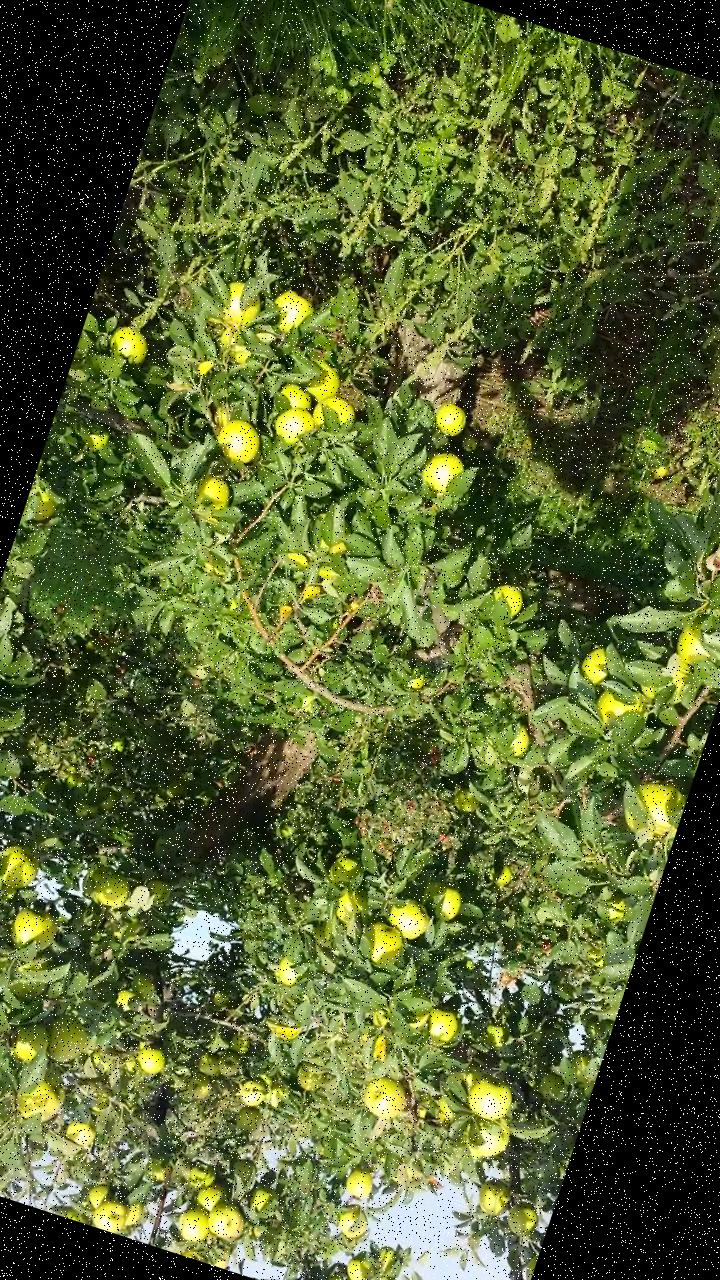Apple: (623, 776, 687, 839), (38, 1010, 92, 1066), (6, 900, 61, 954), (12, 1074, 66, 1127), (359, 1070, 411, 1122), (672, 612, 718, 669), (590, 687, 643, 736), (264, 288, 315, 338), (354, 919, 404, 968), (383, 894, 432, 944), (212, 416, 262, 465), (216, 281, 264, 331), (419, 448, 466, 497), (270, 403, 318, 450), (464, 1076, 513, 1122), (7, 1017, 52, 1066), (636, 666, 688, 708), (0, 842, 43, 891), (419, 879, 465, 924), (300, 356, 344, 403), (210, 324, 257, 368), (105, 325, 152, 367), (202, 1200, 248, 1242), (421, 1007, 467, 1049), (309, 393, 356, 434), (170, 1202, 212, 1246), (92, 868, 134, 912), (469, 1117, 511, 1160), (576, 644, 616, 688), (502, 1200, 544, 1240), (474, 1178, 515, 1218), (7, 968, 50, 1002), (334, 1202, 370, 1242), (91, 1196, 128, 1234), (487, 583, 526, 619), (244, 1182, 281, 1219), (334, 889, 371, 926), (430, 402, 466, 440), (326, 852, 366, 886), (194, 473, 232, 508), (192, 1180, 230, 1214), (275, 379, 314, 412), (340, 1248, 381, 1279), (230, 1104, 266, 1138), (132, 1044, 168, 1078), (27, 488, 60, 524), (80, 1178, 111, 1214), (344, 1166, 376, 1200), (61, 1120, 96, 1151), (236, 1076, 268, 1108), (536, 1070, 568, 1102), (274, 957, 304, 990), (117, 1197, 146, 1231), (452, 786, 483, 816), (188, 1162, 216, 1194), (564, 1046, 592, 1078), (214, 1049, 244, 1077), (507, 726, 532, 759), (431, 1096, 460, 1124), (228, 1157, 255, 1187), (185, 1071, 212, 1100), (141, 1159, 168, 1187), (142, 877, 170, 904), (295, 1068, 324, 1094), (480, 1023, 509, 1049), (74, 797, 104, 822), (580, 1016, 608, 1042), (267, 1081, 291, 1109), (196, 1051, 222, 1076), (603, 898, 627, 924), (83, 429, 107, 453), (211, 1245, 234, 1269), (371, 1245, 393, 1270), (93, 789, 118, 810), (153, 834, 179, 854), (228, 1032, 250, 1054), (519, 1254, 538, 1279), (113, 990, 133, 1010), (105, 737, 126, 754), (409, 672, 425, 691), (498, 865, 511, 887), (584, 954, 603, 968)
